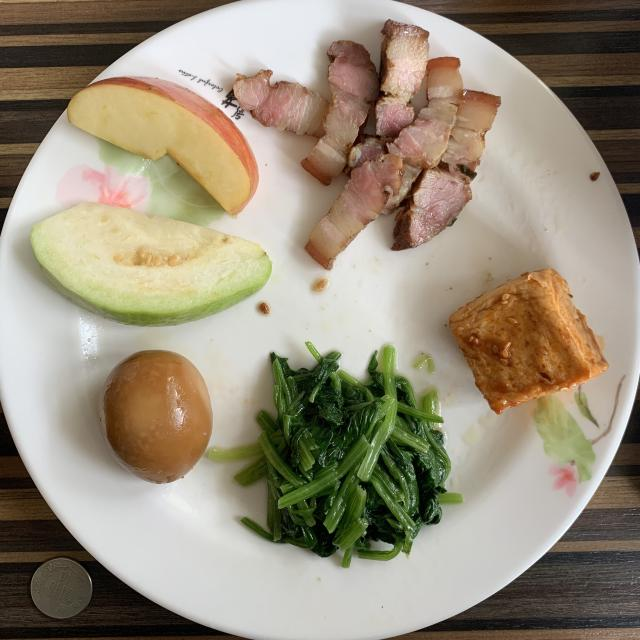apple -sliced-: (68, 78, 259, 215)
coin: (30, 558, 92, 619)
creamy tofu: (449, 269, 609, 414)
grilled pork: (234, 20, 500, 269)
guava -sliced-: (30, 202, 270, 325)
mustard greens: (208, 342, 451, 568)
soy egg: (101, 350, 212, 484)
